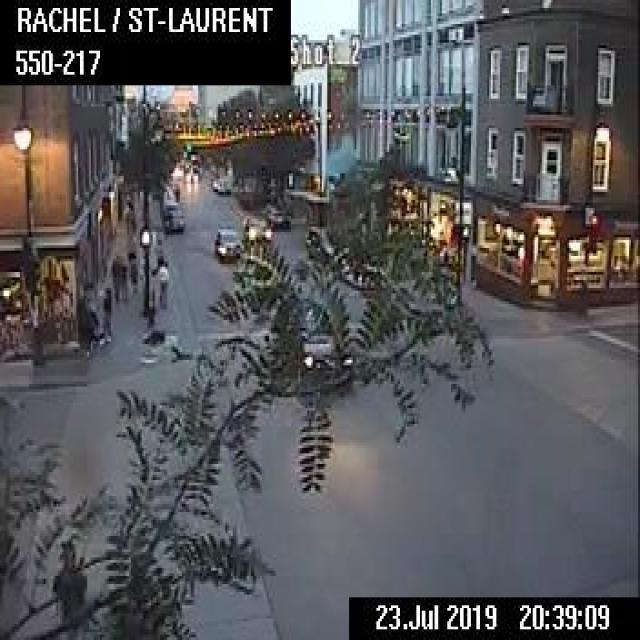pedestrian: (49, 547, 96, 637), (151, 248, 169, 299), (101, 285, 111, 338), (128, 250, 138, 291), (111, 252, 120, 296), (119, 254, 128, 294)
vehicle: (271, 292, 349, 378), (242, 212, 270, 245), (213, 226, 240, 259), (264, 201, 290, 226), (161, 202, 184, 230), (211, 174, 231, 193), (182, 169, 199, 182)
